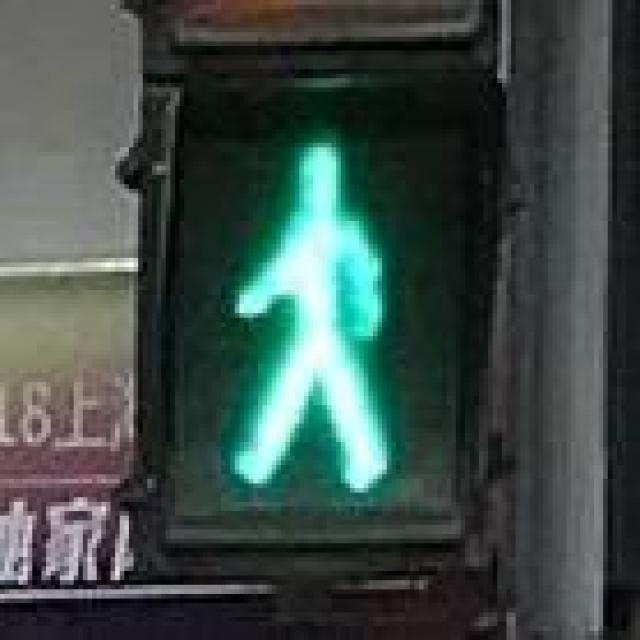green_light: (152, 102, 474, 530)
